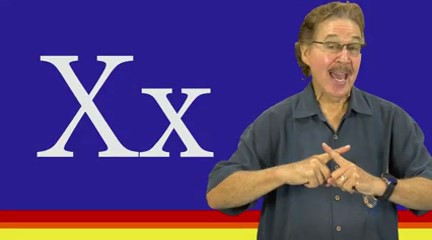X: (285, 139, 375, 198)
